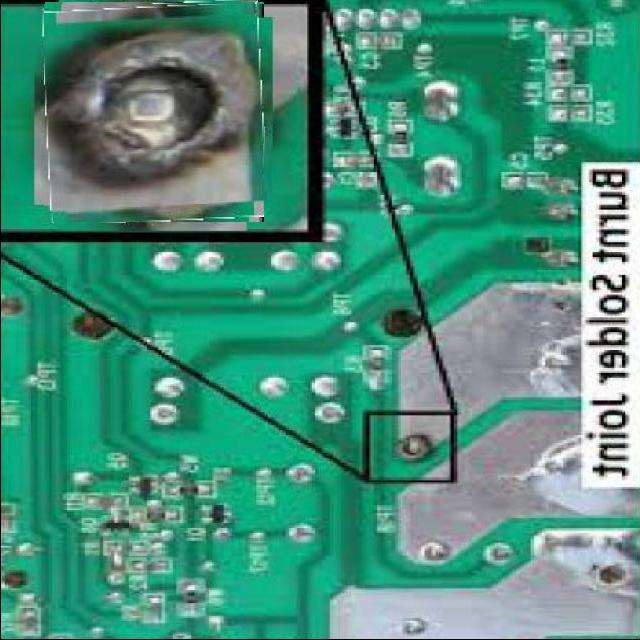damged: (45, 3, 264, 222)
